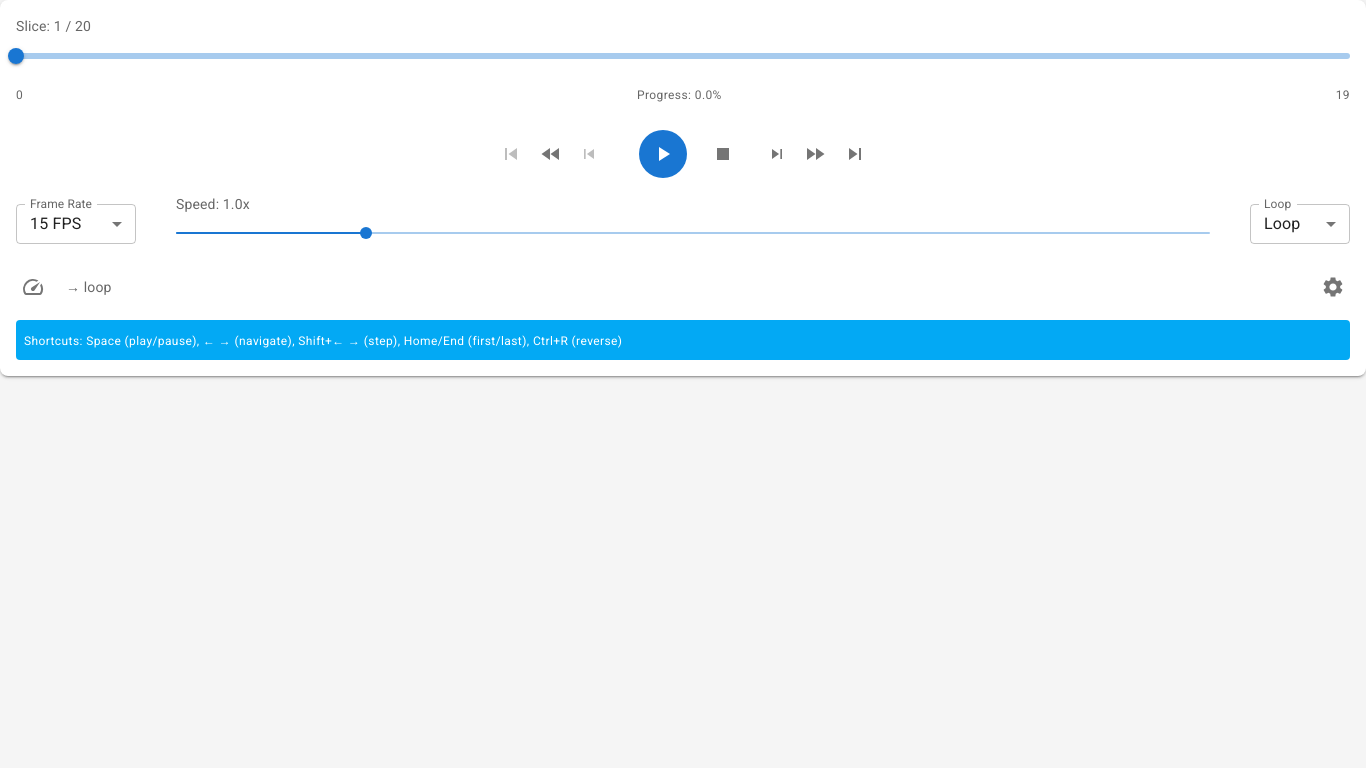
Test: CinePlayer › Advanced Controls › should show performance statistics in advanced mode
What coordinates should you click on to do the following:
click the button named "advanced controls"
I would click on:
 (1333, 287)
Its box is [1316,270,1350,304].
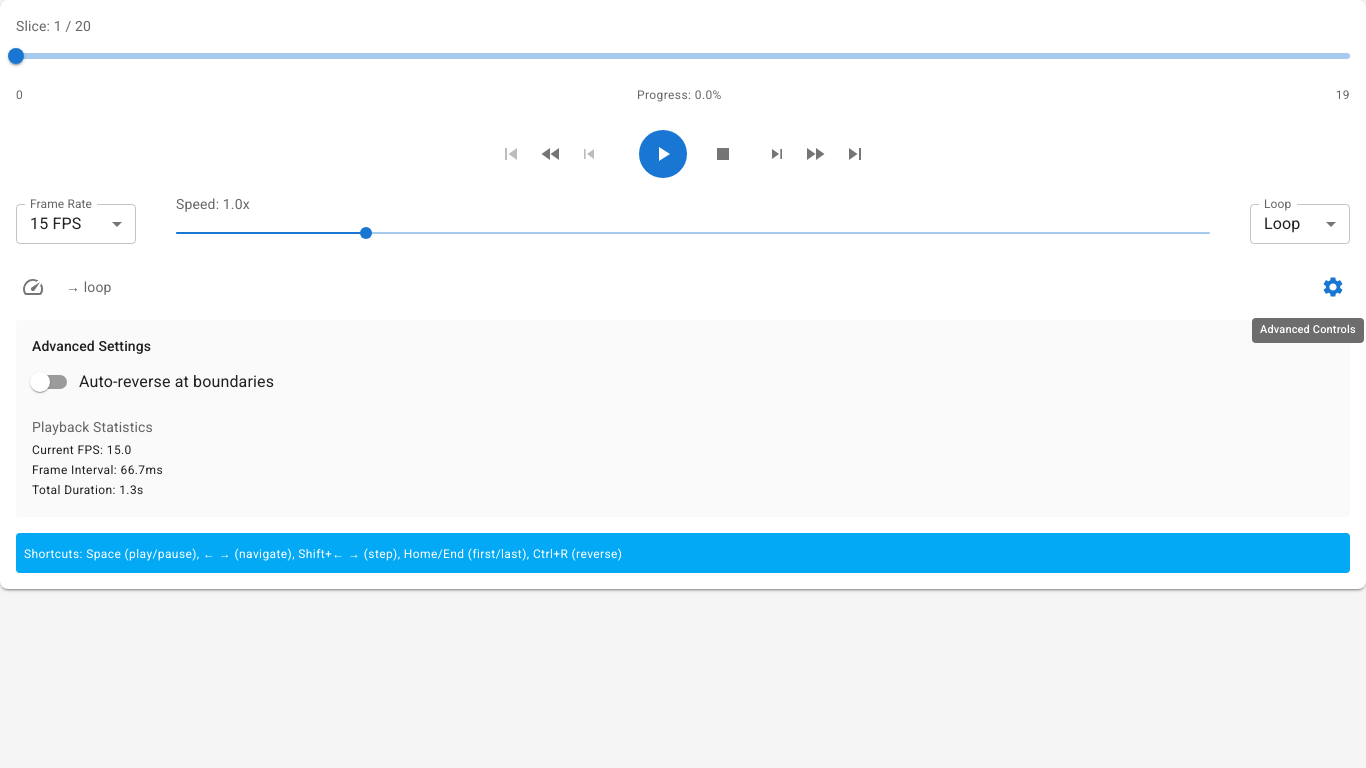
Result: the text "Playback Statistics" is shown at [32,419,153,435]
Result: the text "Current FPS: 15.0" is shown at [32,444,132,458]
Result: the text "Total Duration: 1.3s" is shown at [32,483,144,497]
